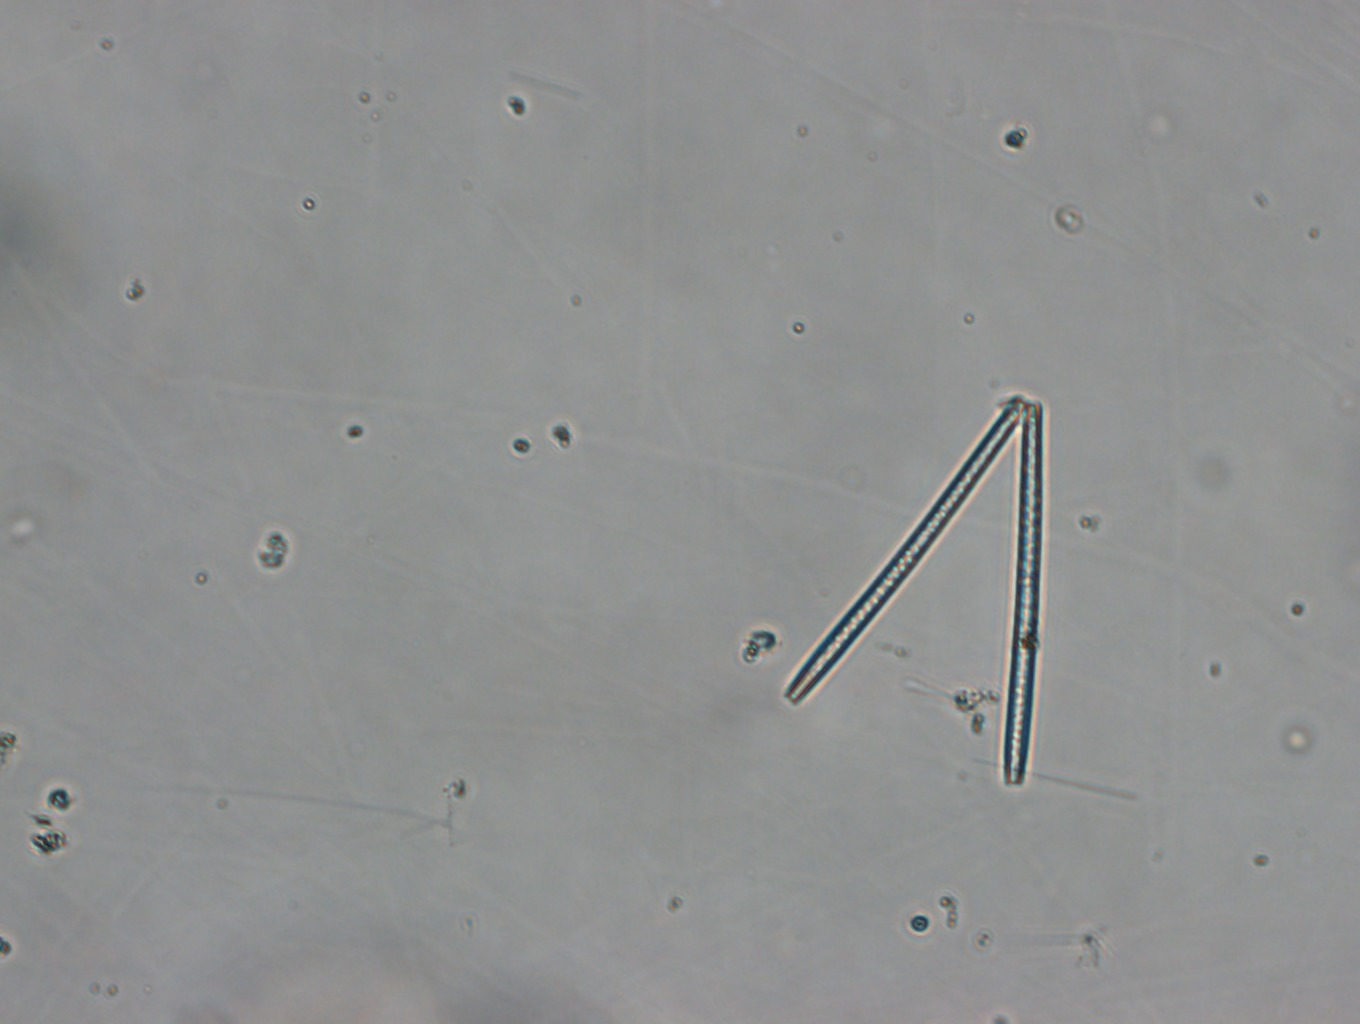thalassionema frauenfeldii: (781, 396, 1043, 790)
